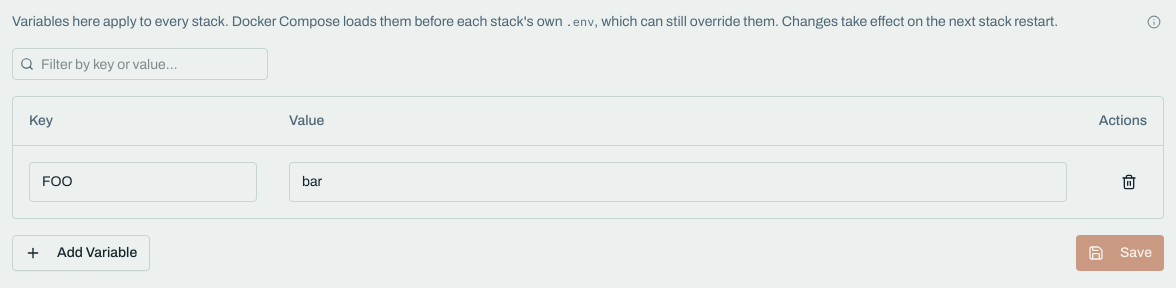
Test: GlobalEnvSettingsContent › shows a message when no variables match the filter
The image size is (1176, 288).
Type "nomatch" into the field with placeholder "Filter by key or value…".
click(140, 64); type("nomatch")  # box x1=12 y1=48 x2=268 y2=80
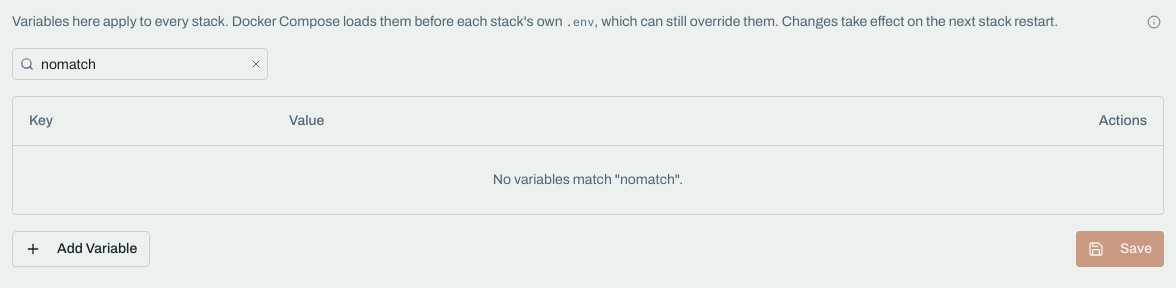
Expected: the text "No variables match \"nomatch\"." is shown, x1=13 y1=145 x2=1163 y2=214
